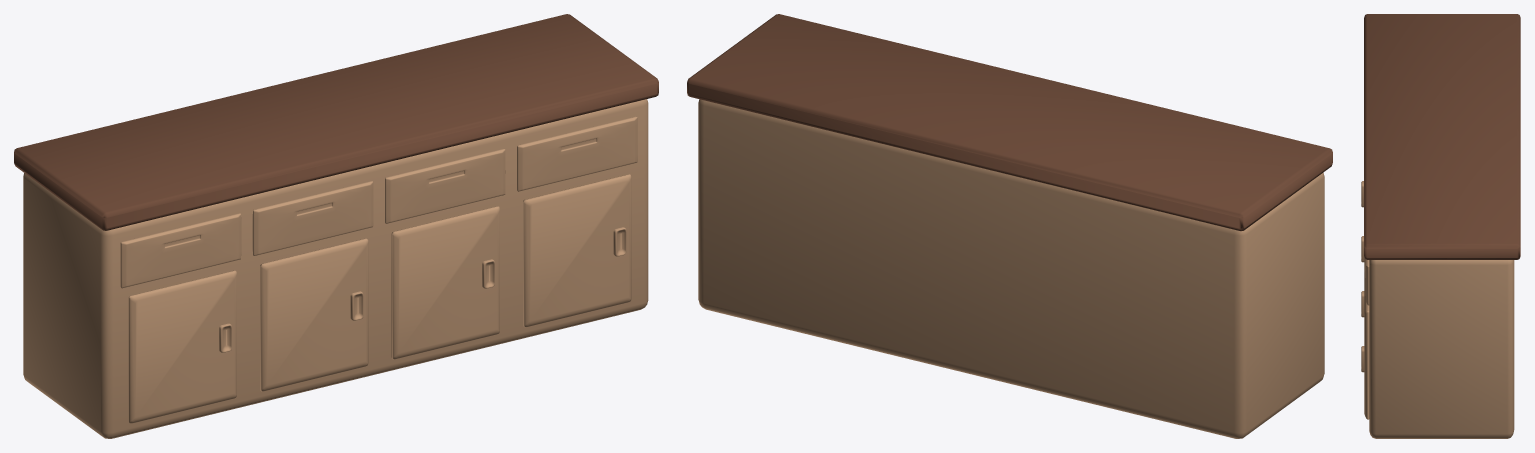
File: Cabinet.fbx
3 views of the same model, side by side, from view 1: azimuth 30°, elevation 25°; view 2: azimuth 150°, elevation 25°; view 3: azimuth 270°, elevation 25° (orthographic). The views are drawn at different scales.
Parts seen in each view (by area): view 1: Cabinet; view 2: Cabinet; view 3: Cabinet.
Boxes of the visible parts, bbox=[...] form: Cabinet: bbox=[14, 14, 658, 438]; Cabinet: bbox=[687, 14, 1332, 438]; Cabinet: bbox=[1361, 14, 1520, 438].
Size of the model in its own units: 190 by 75.8 by 54.96.
